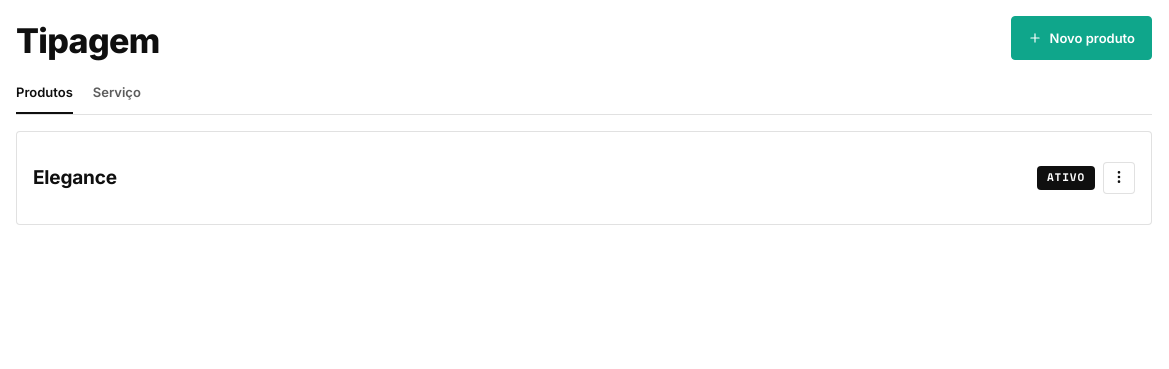
Tipagem › esconde as ações da linha de produto no menu ⋮, não como links
Expected: the button "Editar" is not shown
Expected: the button "Desativar" is not shown
Click the button named "Ações de Elegance".
click(1119, 178)  # box left=1103, top=162, right=1135, bottom=194
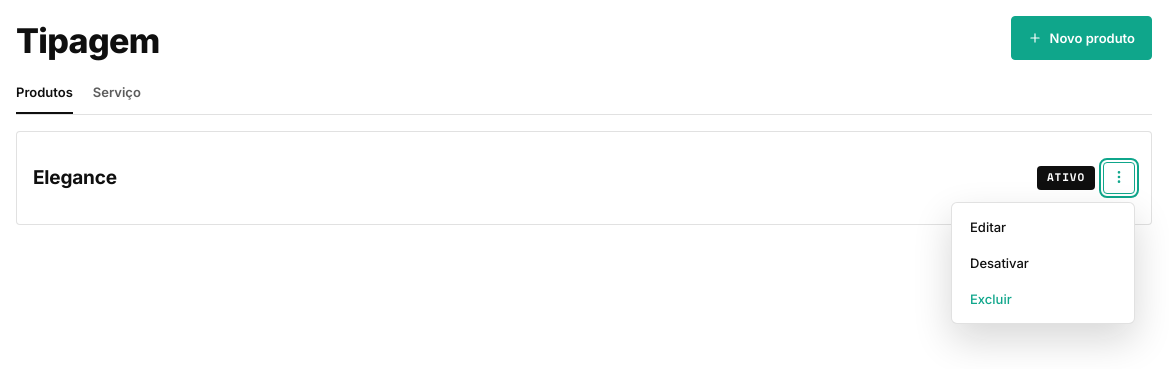
Result: the menu item "Editar" is shown at left=958, top=209, right=1128, bottom=245
Result: the menu item "Desativar" is shown at left=958, top=245, right=1128, bottom=281
Result: the menu item "Excluir" is shown at left=958, top=281, right=1128, bottom=317
